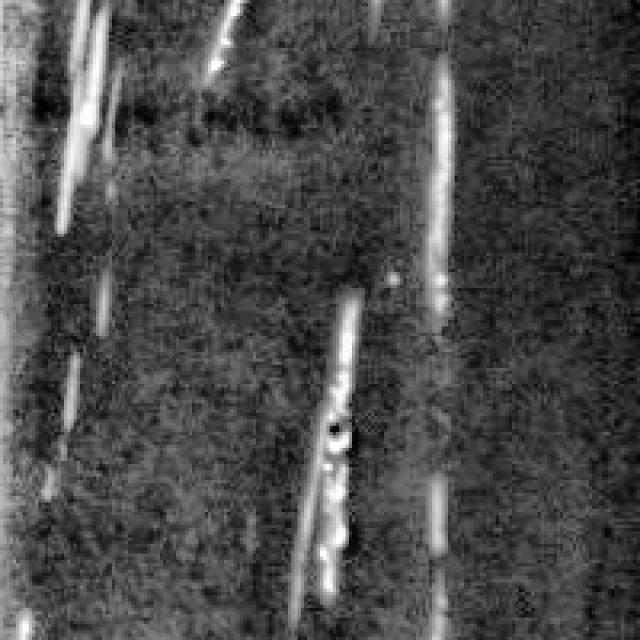Inclusion: (278, 288, 362, 605), (41, 0, 105, 230), (410, 55, 454, 308), (413, 474, 451, 630), (192, 0, 243, 80)
